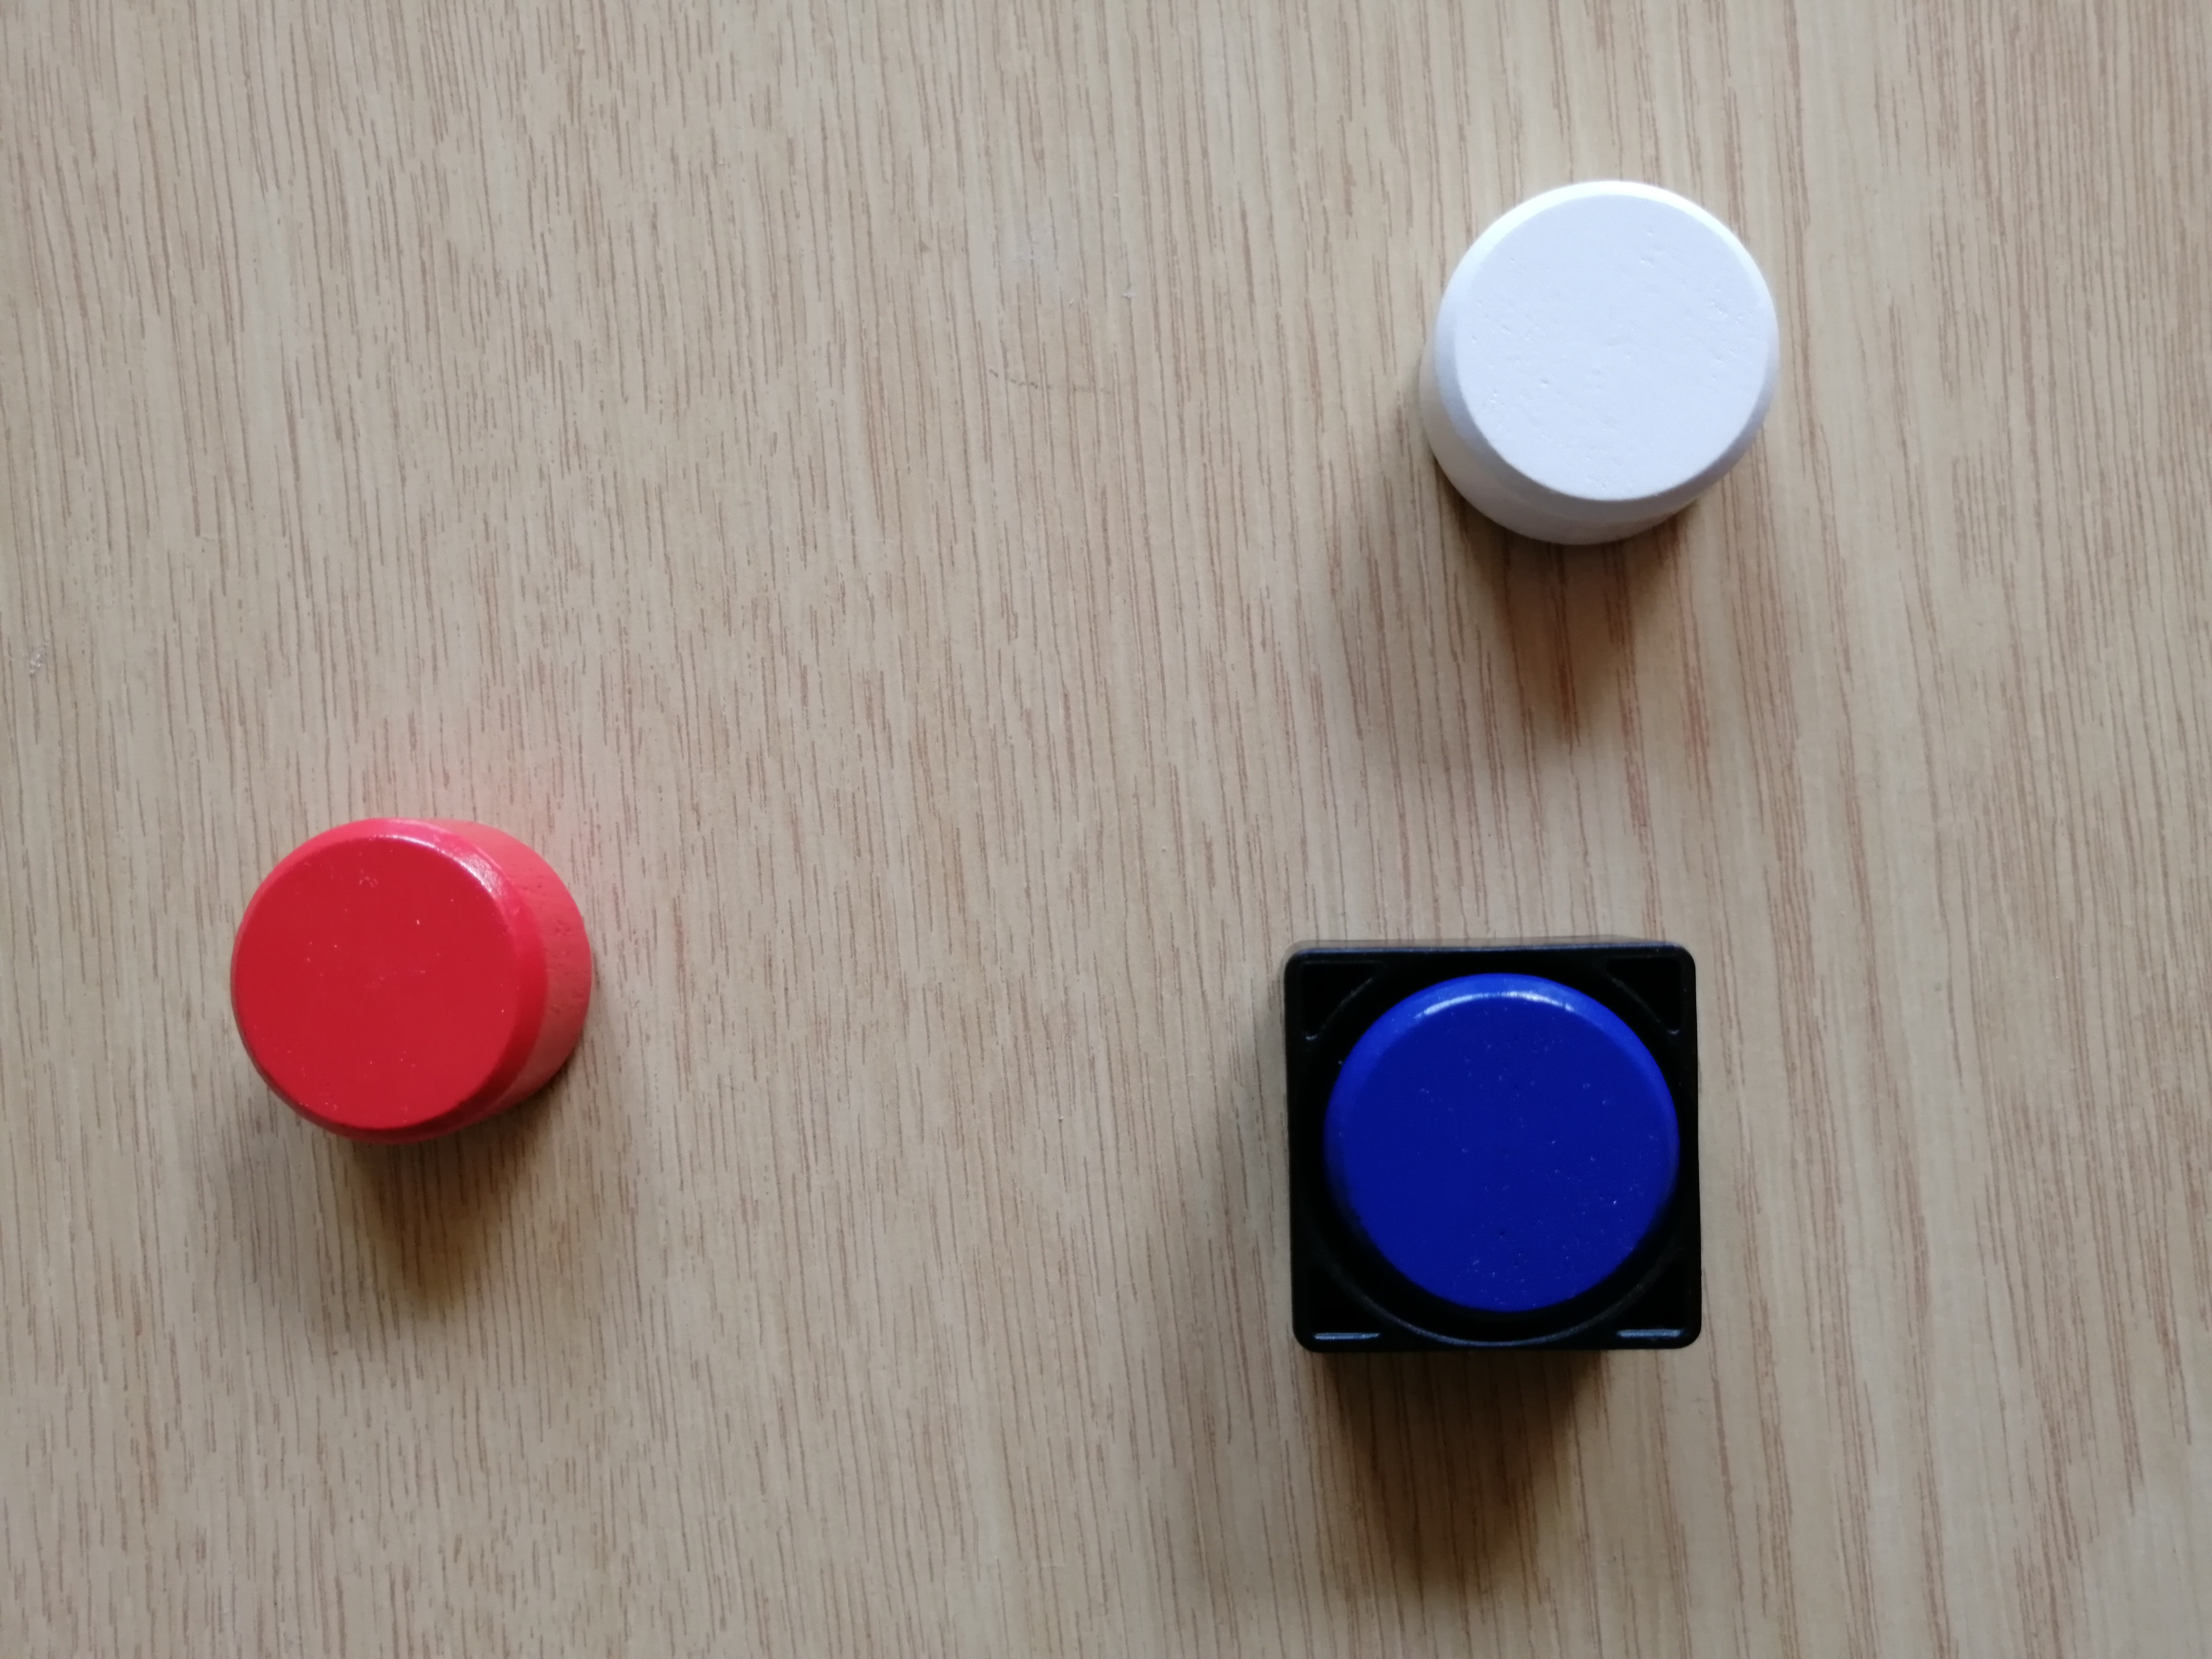Behaelter: (1273, 943, 1709, 1358)
WerkStueck: (1407, 185, 1782, 552), (218, 826, 594, 1136), (1336, 993, 1660, 1305)
